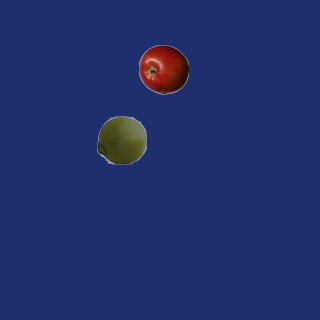Apple Braeburn: (138, 44, 188, 94)
Grape White 4: (96, 114, 146, 164)
